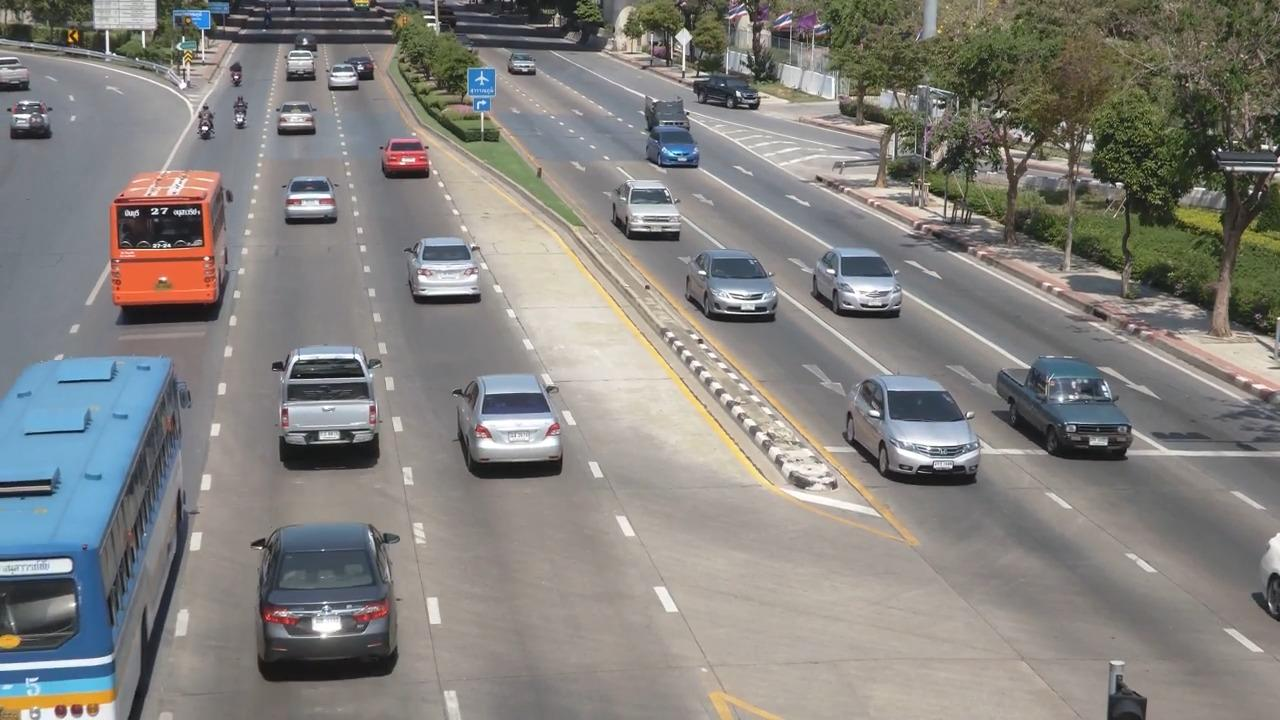CAR: (247, 514, 414, 685), (989, 335, 1158, 478), (833, 361, 991, 500), (260, 337, 400, 485), (445, 362, 577, 489), (793, 232, 917, 329), (673, 234, 790, 334), (401, 226, 496, 319), (274, 164, 354, 251), (605, 176, 685, 245), (634, 117, 712, 176), (688, 62, 763, 120), (0, 33, 67, 97), (263, 90, 325, 158), (375, 133, 436, 194), (6, 95, 62, 159), (637, 87, 696, 134), (277, 53, 332, 96), (345, 47, 396, 91), (322, 58, 369, 102), (285, 32, 330, 65)
HGV_BUS: (0, 346, 205, 720), (91, 161, 241, 320)
MOTOR: (180, 101, 226, 172), (215, 91, 269, 150), (216, 58, 249, 97)
